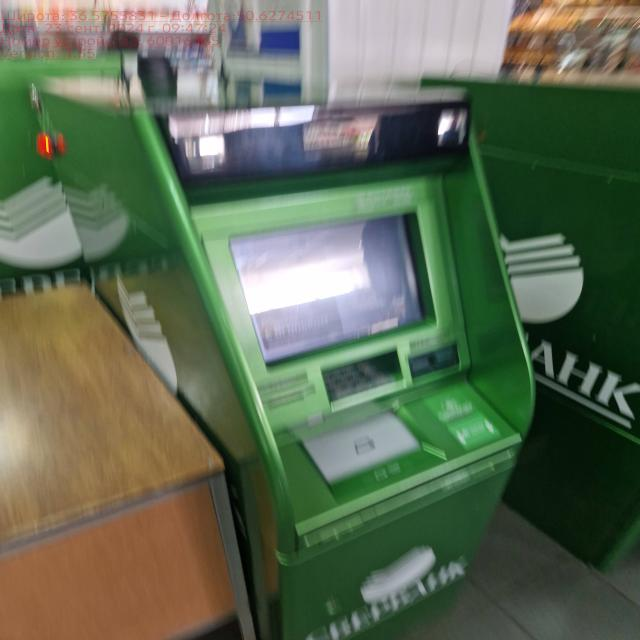bank: (33, 66, 531, 640), (429, 68, 640, 575), (0, 47, 188, 296)
